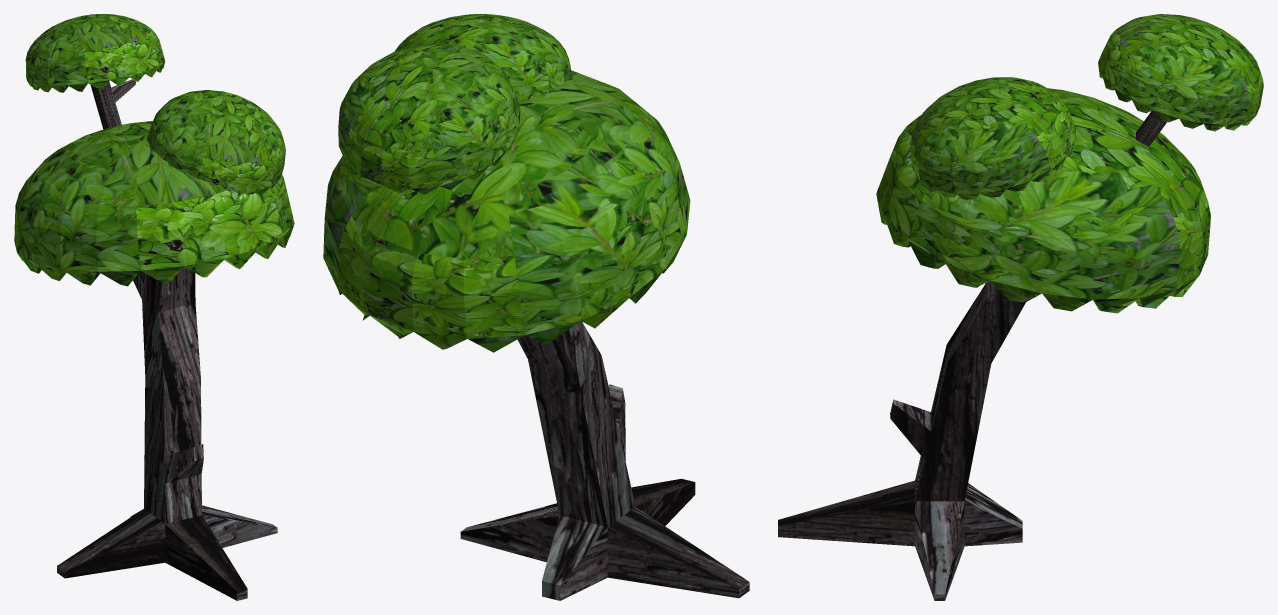
Rendered from tree4.fbx.
The picture shows the model from 3 angles, left to right: view 1: azimuth 30°, elevation 25°; view 2: azimuth 150°, elevation 25°; view 3: azimuth 270°, elevation 25°; orthographic projection. The views are drawn at different scales.
Parts seen in each view (by area): view 1: pSphere1, pCube1, pSphere3, pSphere2, pCube2; view 2: pSphere1, pCube1, pSphere2, pSphere3; view 3: pSphere1, pCube1, pSphere3, pSphere2.
Part boxes in pixels (x1,y1,x2,y2): pSphere1: (14,121,294,286); pCube1: (57,266,277,600); pSphere3: (147,90,285,194); pSphere2: (25,14,165,92); pCube2: (90,79,135,129); pSphere1: (323,70,690,352); pCube1: (460,321,749,600); pSphere2: (338,43,520,194); pSphere3: (394,14,571,101); pSphere1: (876,88,1210,313); pCube1: (778,281,1040,600); pSphere3: (910,77,1076,199); pSphere2: (1098,14,1263,131).
Size of the model in its own units: 7.03 by 11.86 by 9.8.
Materials: 2 (2 with a texture image).
